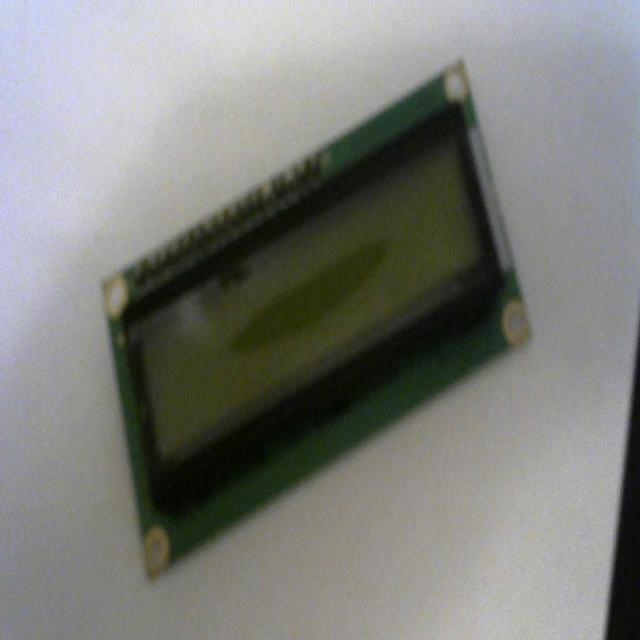lcd: (100, 56, 532, 577)
